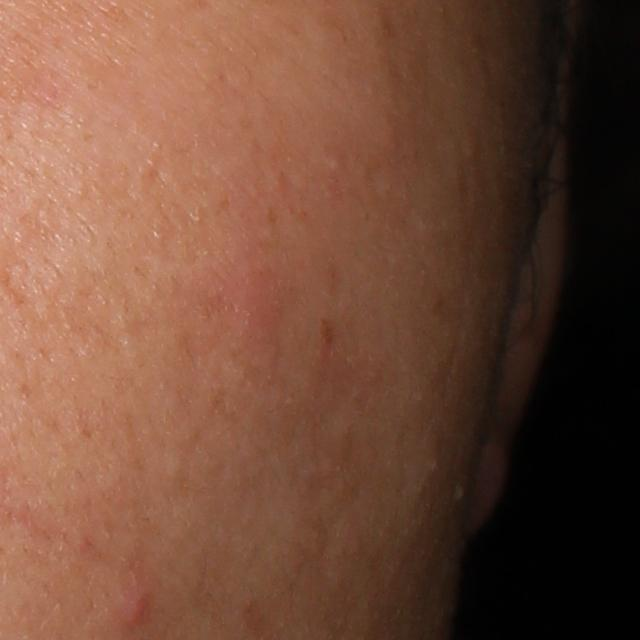papule: (208, 255, 295, 389), (113, 584, 157, 636)
